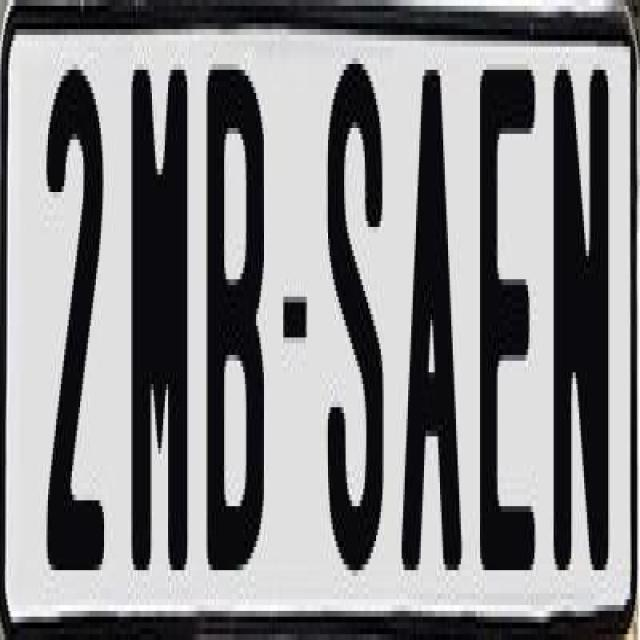2: (41, 58, 106, 564)
A: (397, 70, 461, 576)
B: (202, 64, 260, 576)
E: (475, 52, 533, 576)
M: (128, 70, 189, 582)
N: (548, 64, 604, 588)
S: (323, 64, 387, 605)
